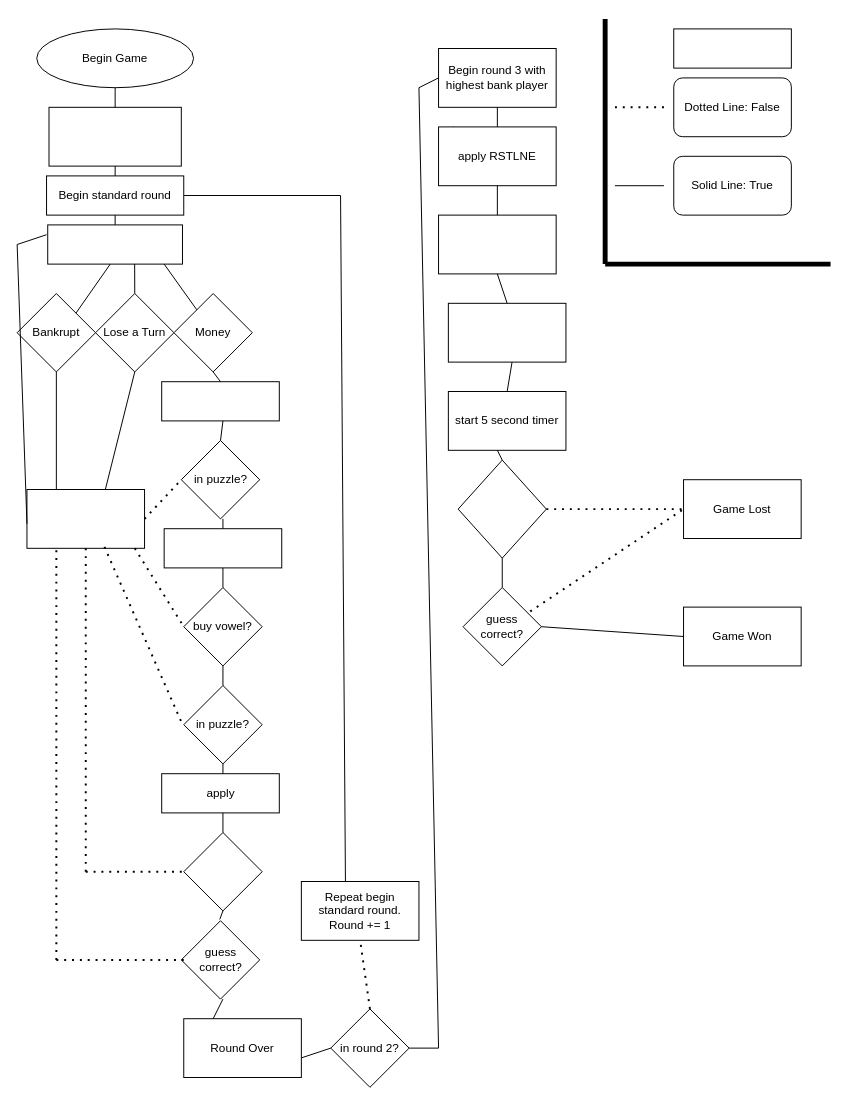
The diagram is 851 pixels wide and 1104 high, and some of its shapes have lost their labels. Here are the shapes that lost their labels. From the top down, the centre of each, then its label:
point 732,48: Key for lines from logic steps
point 114,136: Initialize Players: List of lists with player info
point 114,244: Player Spin
point 497,244: pick 3 consonants and 1 vowel
point 506,332: apply chosen letters
point 220,401: Guess Consonant
point 85,518: Repeat player spin with next player
point 501,508: guess in time?
point 222,548: apply to puzzle
point 222,871: guess full?
